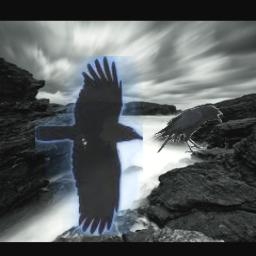Crow: (36, 56, 144, 234), (153, 106, 223, 154)
